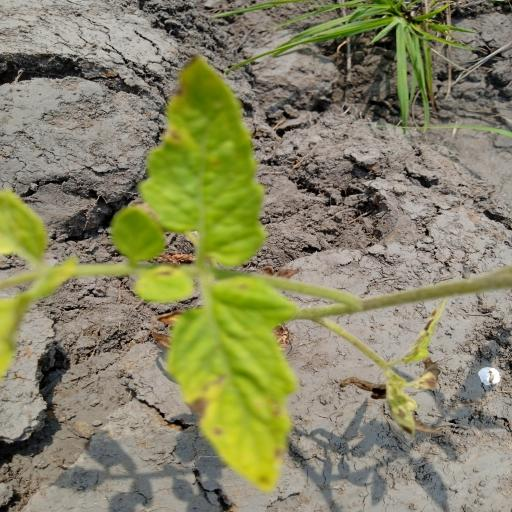Tomato_Brown_Spots: (104, 44, 294, 284), (157, 277, 312, 503)
